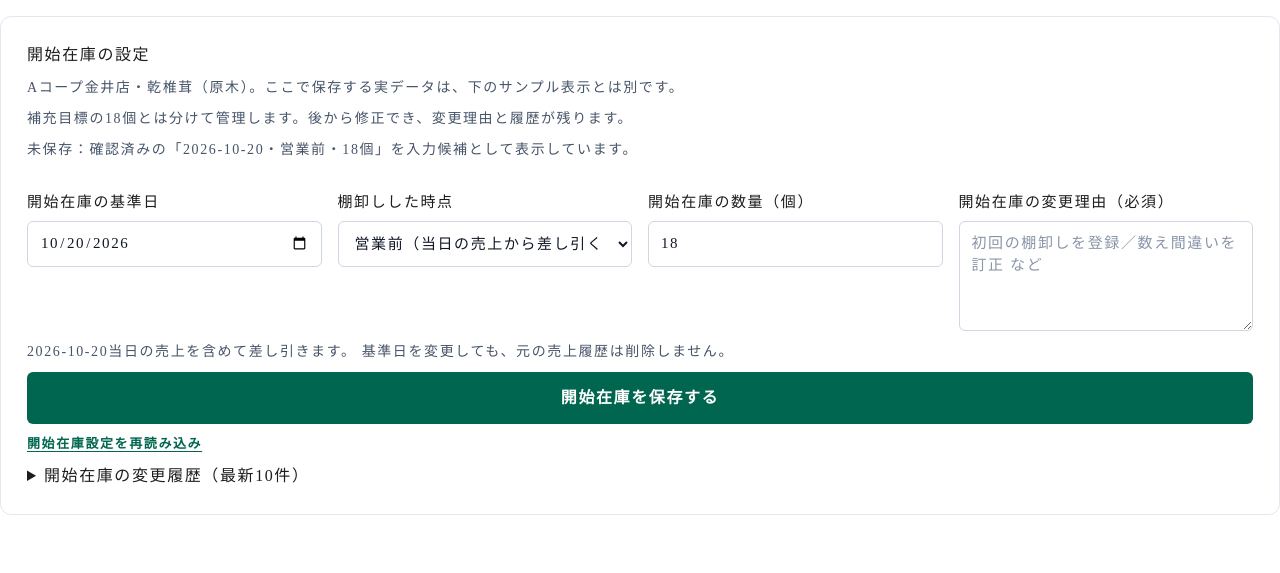
it: loads the persisted state and never auto-saves the confirmed suggested 18
Check: the text "未保存：確認済みの「2026-10-20・営業前・18個」を入力候補として表示しています。" is shown, box left=27, top=142, right=638, bottom=157
Check: the number field labelled "開始在庫の数量（個）" holds "18", box left=648, top=220, right=942, bottom=266
Step 1. Click the button "開始在庫を保存する" → (640, 398), box left=27, top=372, right=1253, bottom=424
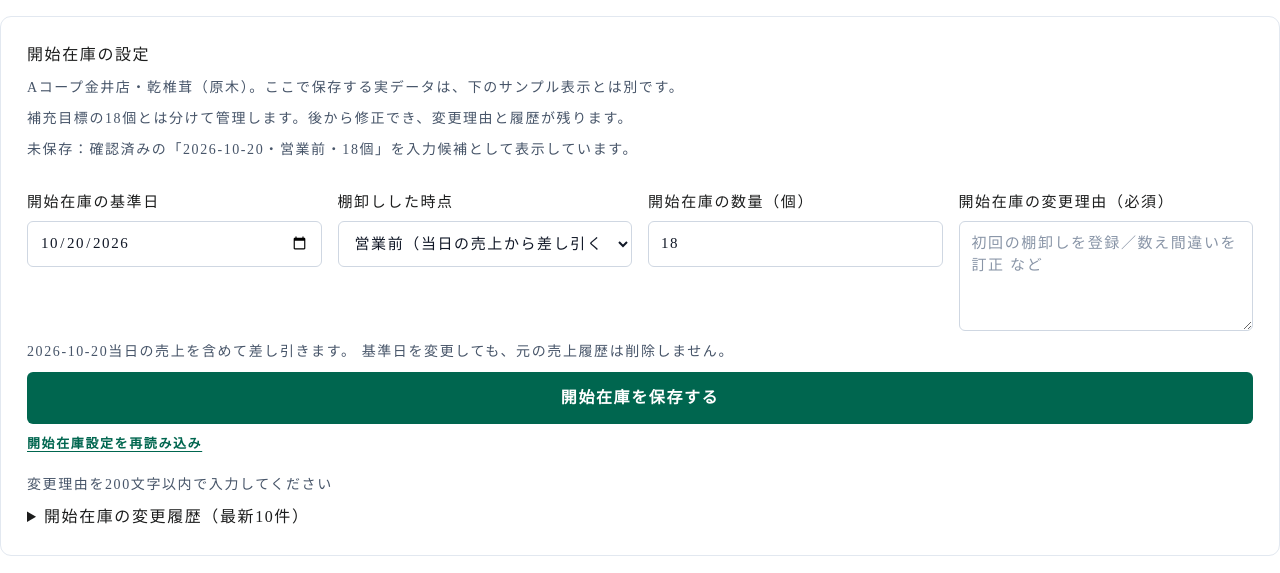
Check: the message shows "変更理由", box left=27, top=476, right=333, bottom=492
